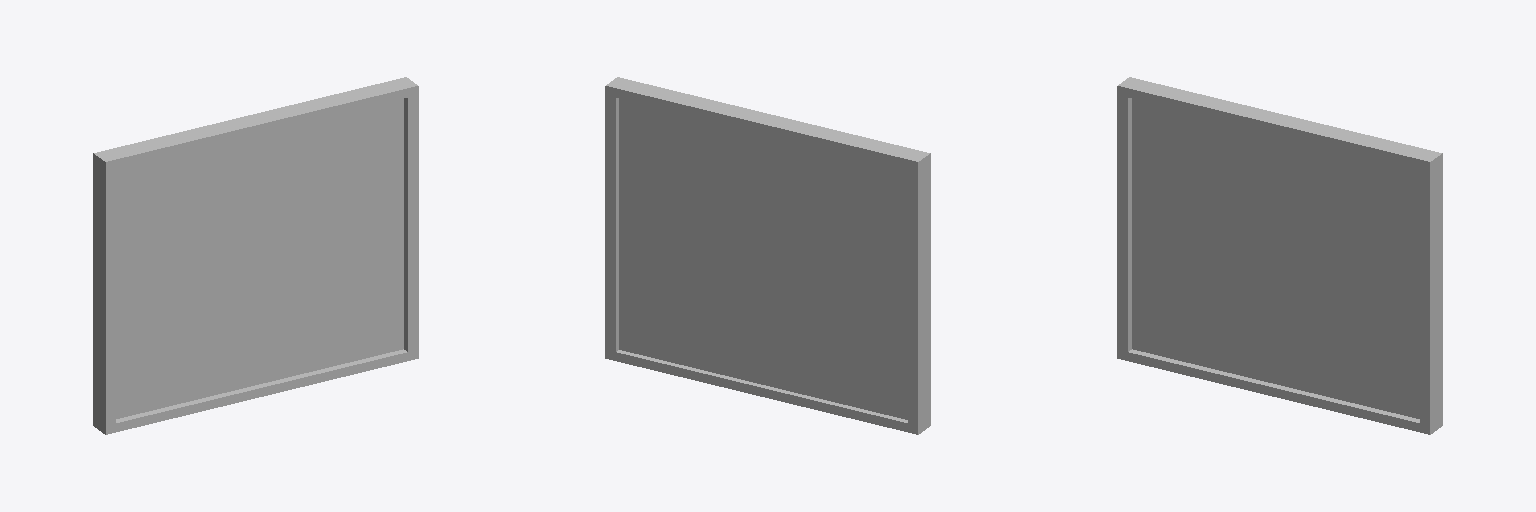
File: garden_panel.obj
The picture shows the model from 3 angles: view 1: azimuth 30°, elevation 25°; view 2: azimuth 150°, elevation 25°; view 3: azimuth 330°, elevation 25°; orthographic projection.
Visible parts, largest first — view 1: Cube; view 2: Cube; view 3: Cube.
Boxes of the visible parts, box(x1,y1,x2,y2) form: Cube: box(93, 77, 418, 434); Cube: box(605, 77, 930, 434); Cube: box(1117, 77, 1442, 434).
Bounding box in the file's own units: 6 × 5 × 0.4.